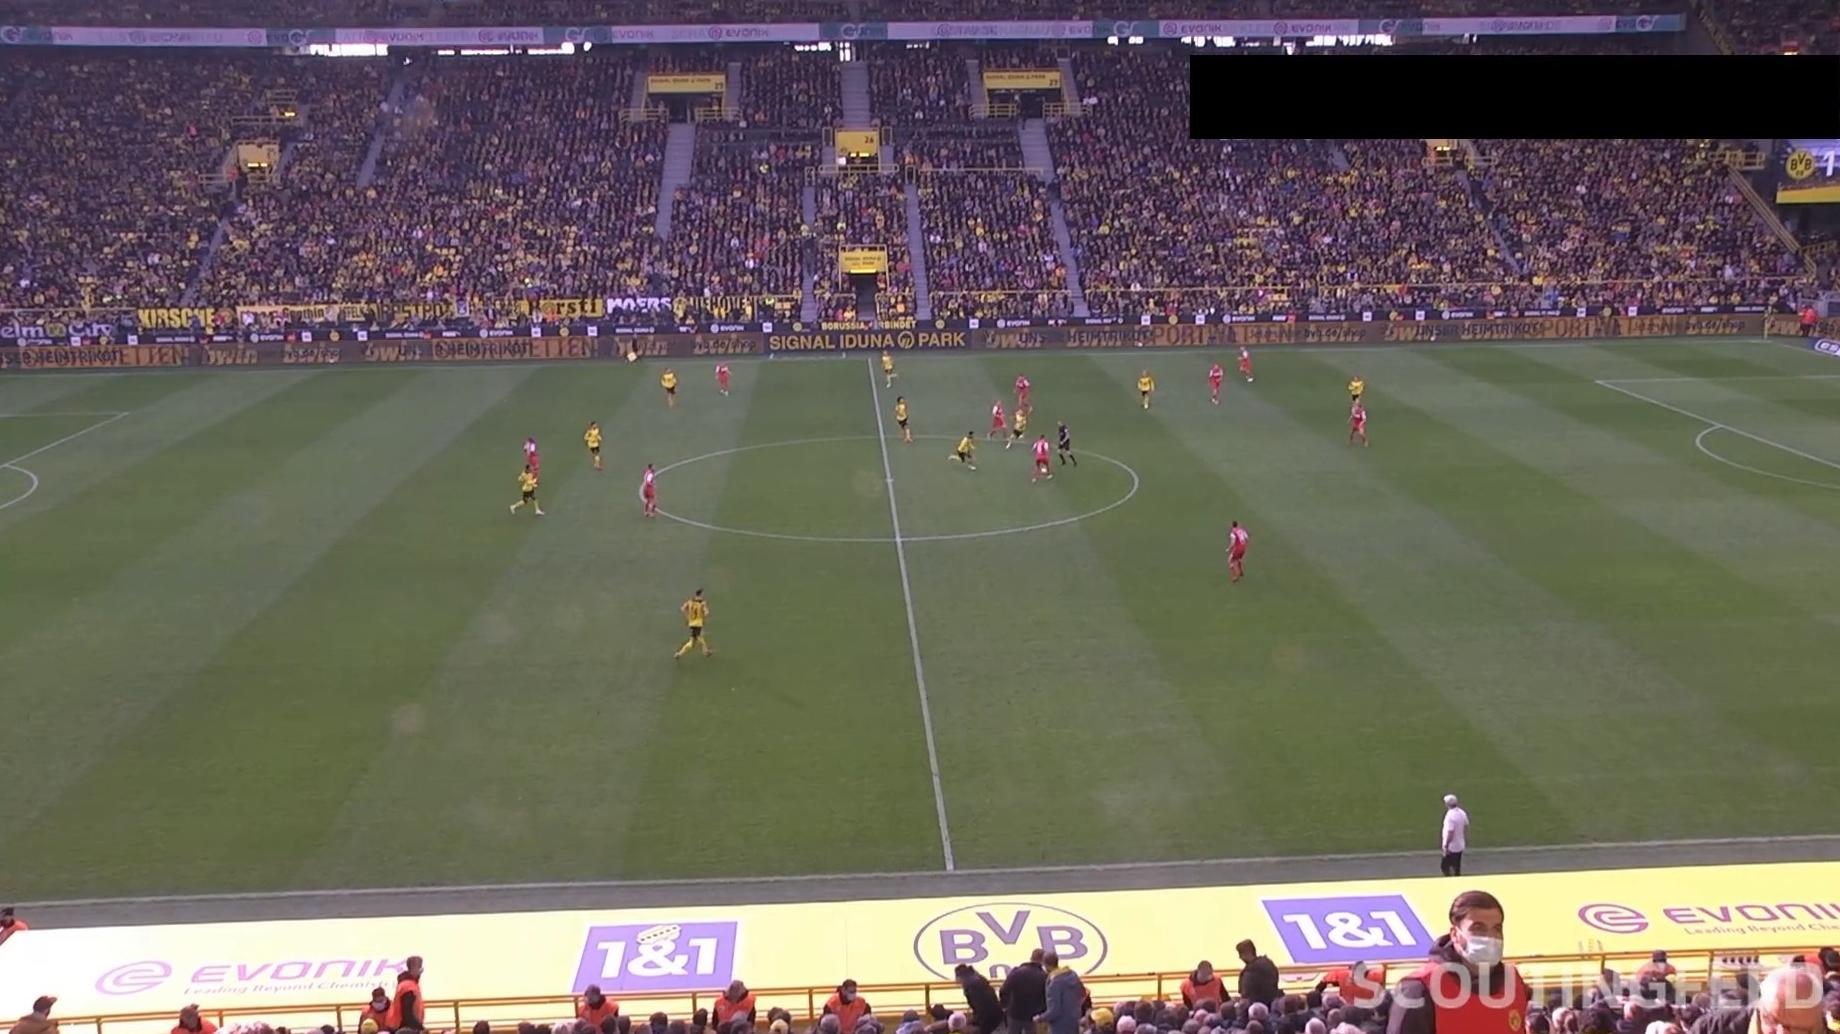ball: (1039, 465, 1048, 477)
